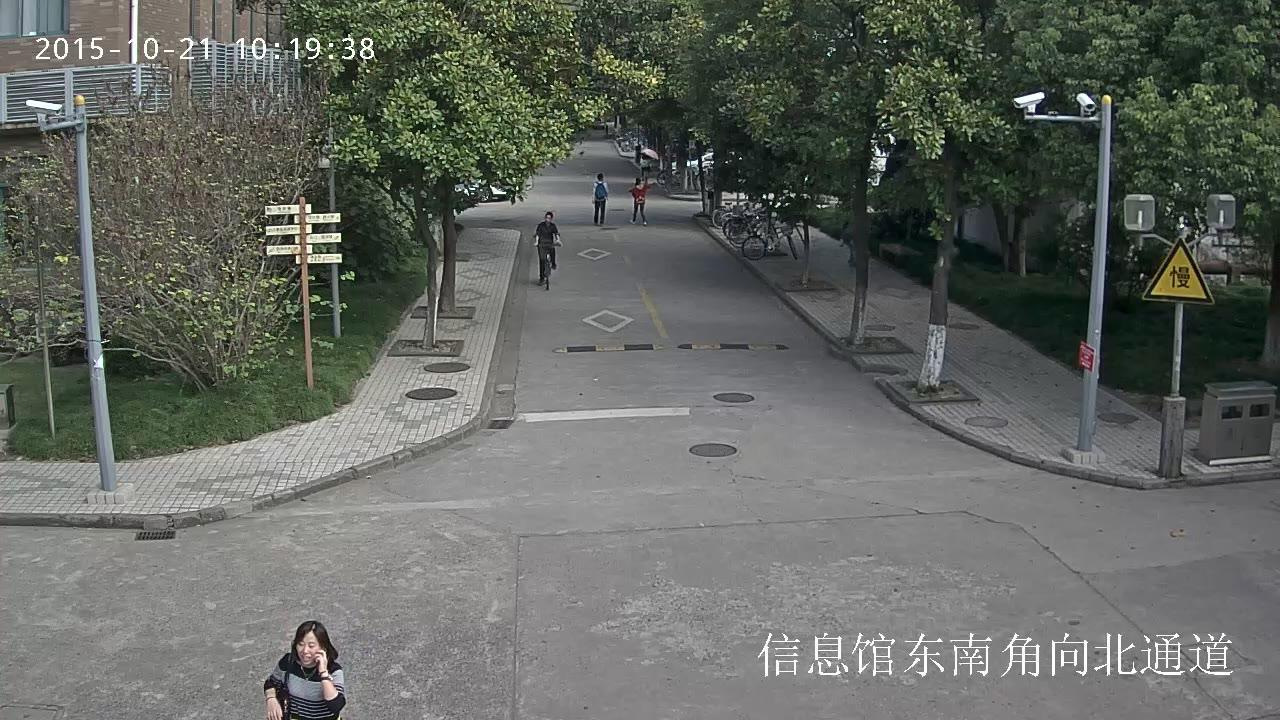person: (264, 619, 346, 720), (532, 211, 560, 290), (535, 212, 561, 285), (592, 173, 608, 225), (632, 177, 647, 226)
